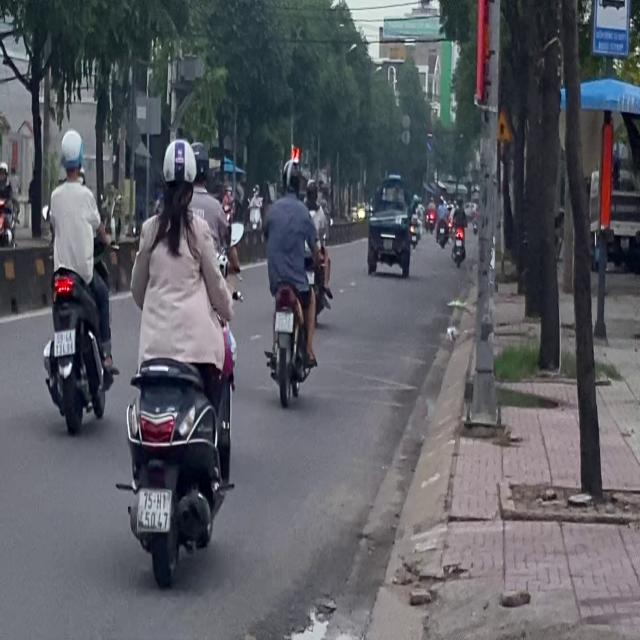helmet: (160, 137, 196, 202), (58, 128, 84, 179), (190, 139, 208, 186), (280, 158, 301, 196)
licenseplate: (117, 131, 240, 589), (40, 127, 116, 433), (261, 157, 322, 404)
nohelmet: (138, 489, 170, 529), (54, 330, 75, 356), (275, 311, 292, 331)
